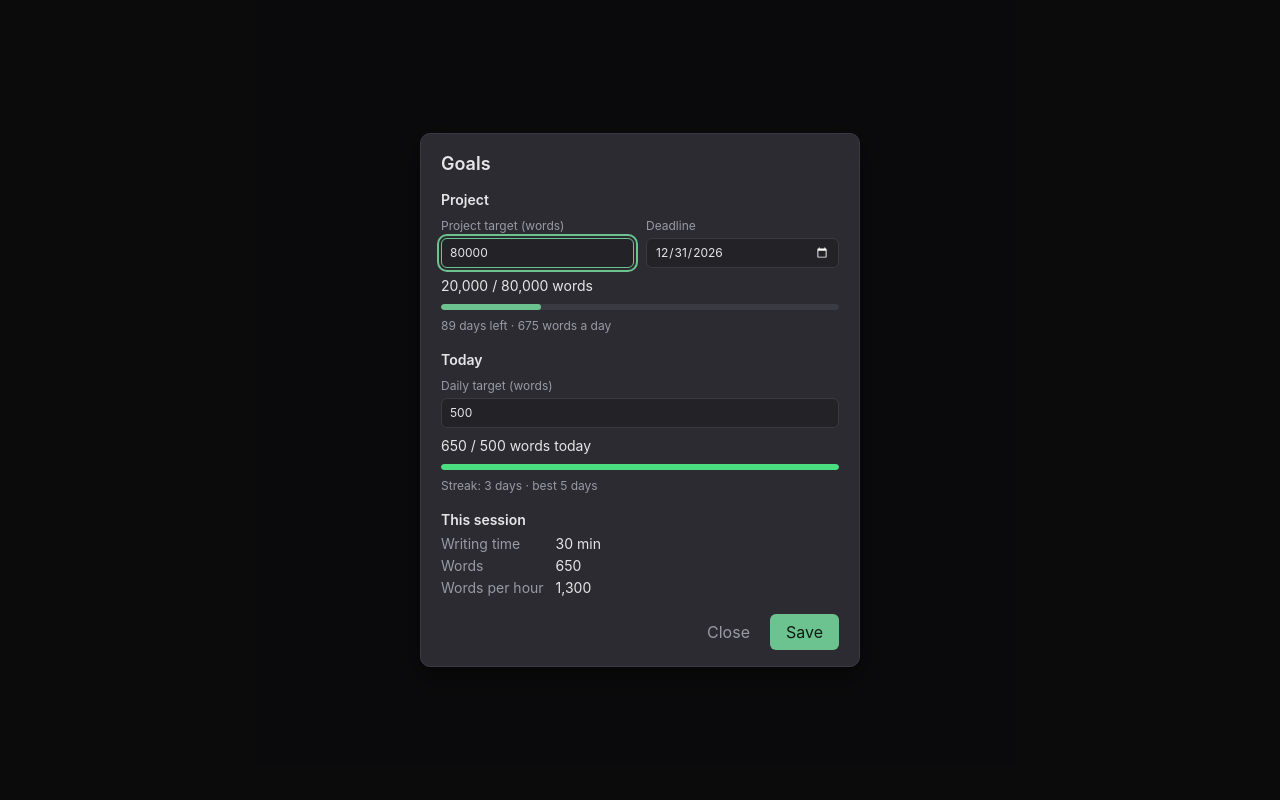
Test: GoalsDialog (F-10.3) › blocks a target that is not a whole number and explains why
Replace the text in the field labelled "Daily target (words)" with "many" at (640, 413), box [441,398,839,428]
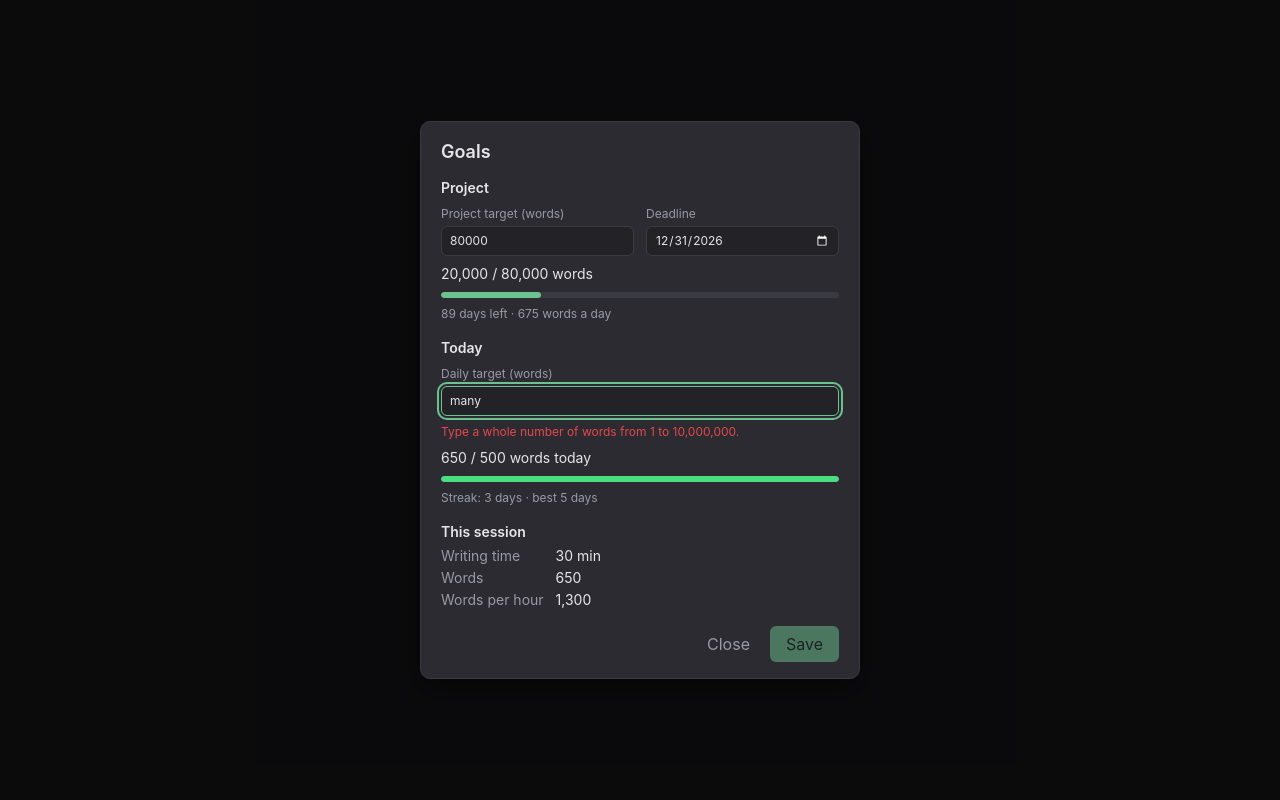
Result: the message shows "whole number of words" at [441,424,739,439]
Result: the button "Save" is disabled at [770,626,839,662]
